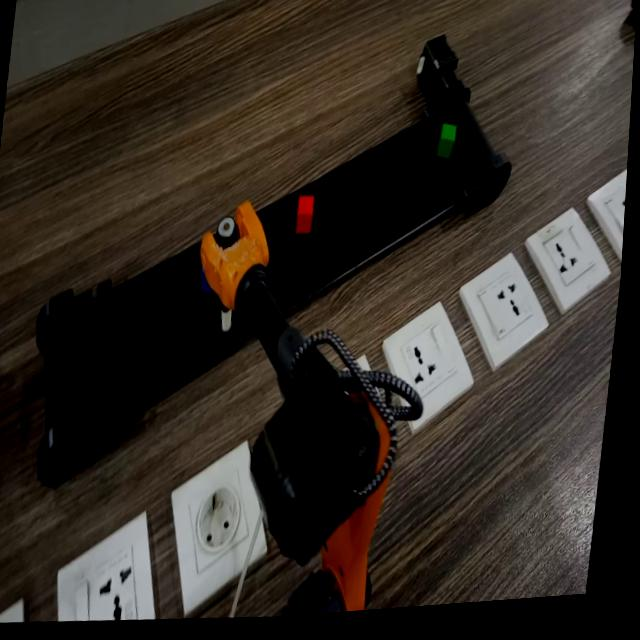cube: (432, 124, 466, 175), (296, 195, 325, 244)
